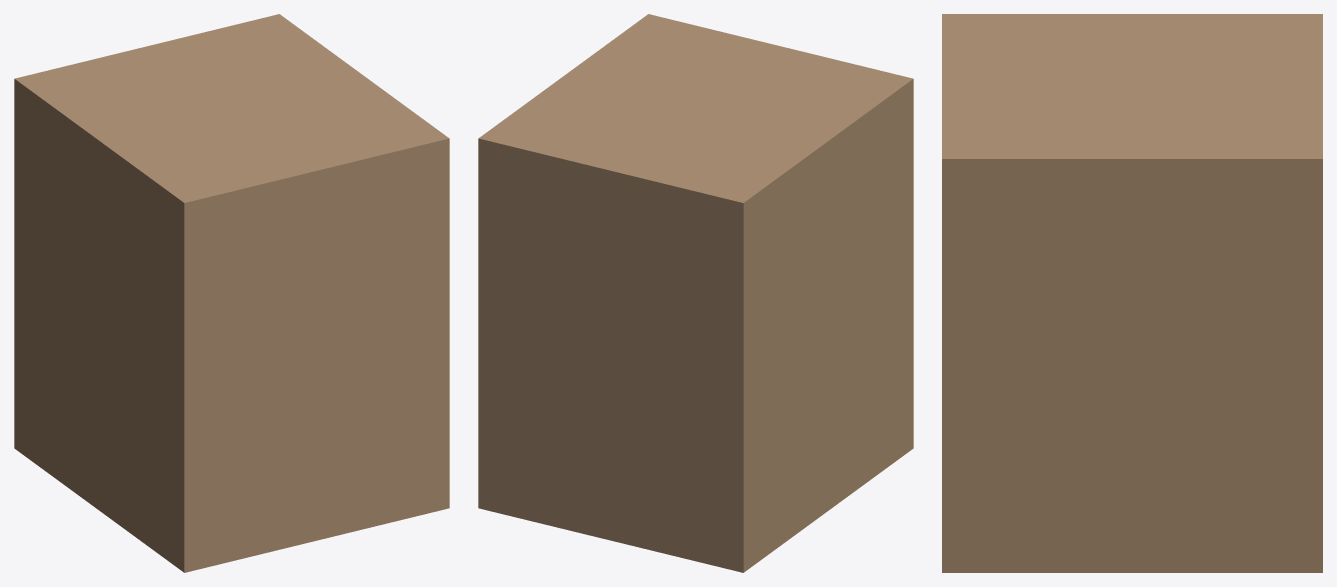
The model's file is nightstand-500.glb.
3 renders of one model, left to right at view 1: azimuth 30°, elevation 25°; view 2: azimuth 150°, elevation 25°; view 3: azimuth 270°, elevation 25°, orthographic. The views are drawn at different scales.
Visible parts, largest first — view 1: nightstand-500; view 2: nightstand-500; view 3: nightstand-500.
Part boxes in pixels (bbox=[...]): nightstand-500: bbox=[14, 14, 449, 572]; nightstand-500: bbox=[478, 14, 913, 572]; nightstand-500: bbox=[942, 14, 1322, 572].
Bounding box in the file's own units: 0.45 × 0.6 × 0.5.
